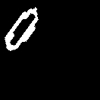chain: (5, 8, 37, 50)
